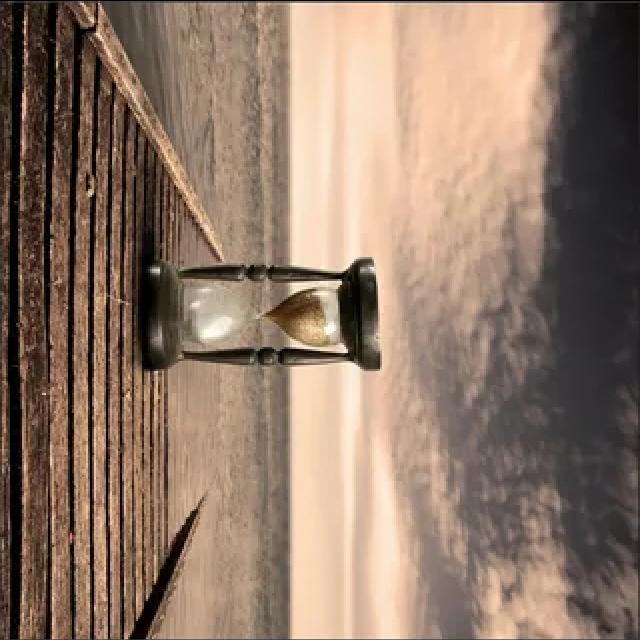clock: (130, 247, 394, 386)
